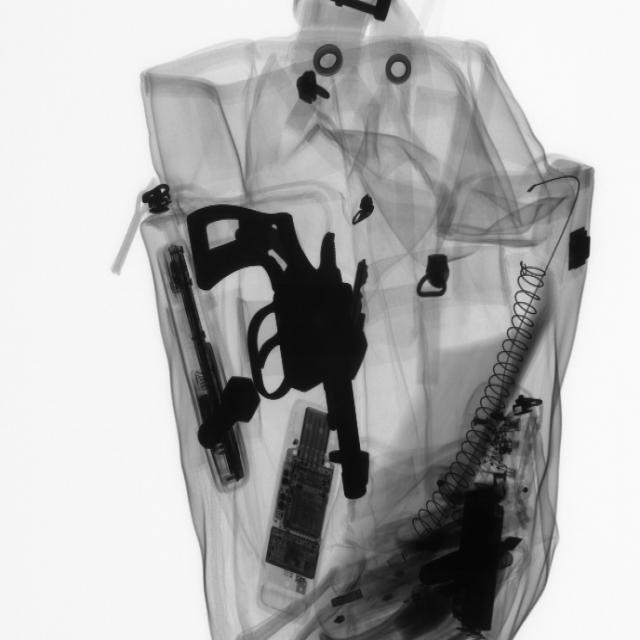GUN: (192, 209, 373, 509)
